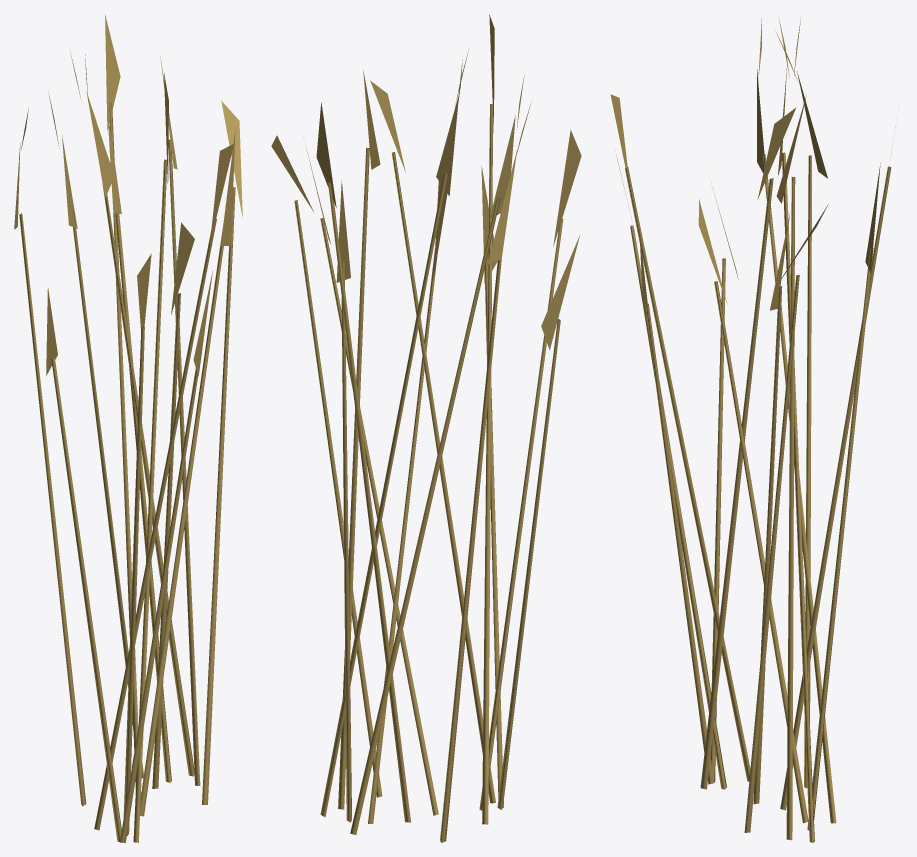
File: trigo_0.glb
3 renders of one model, left to right at view 1: azimuth 30°, elevation 25°; view 2: azimuth 150°, elevation 25°; view 3: azimuth 270°, elevation 25°, orthographic. The views are drawn at different scales.
Visible parts, largest first — view 1: trigo_0.001; view 2: trigo_0.001; view 3: trigo_0.001.
Part boxes in pixels (x1,y1,x2,y2): trigo_0.001: (14,14,242,842); trigo_0.001: (271,14,581,842); trigo_0.001: (610,17,895,842).
Size of the model in its own units: 0.3644 by 1.09 by 0.3753.
